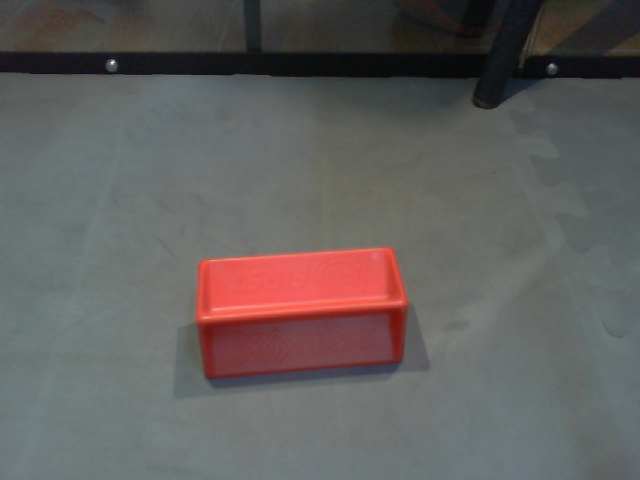RedSample: (190, 244, 412, 377)
